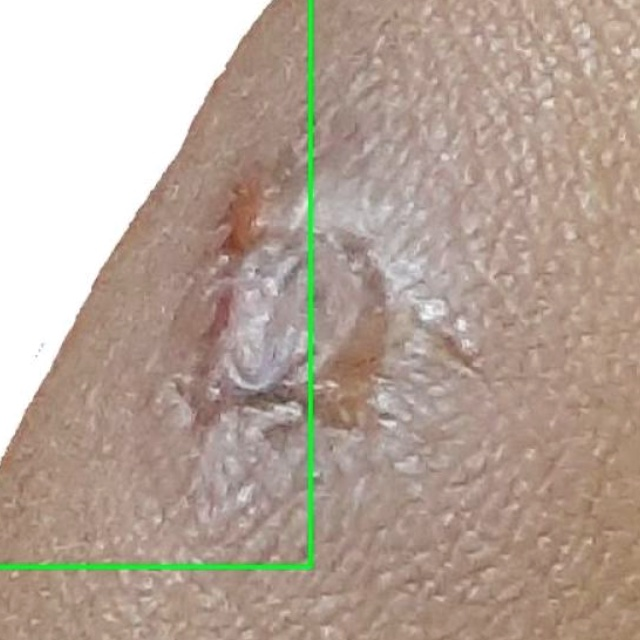Contact Dermatitis: (0, 0, 310, 568)
